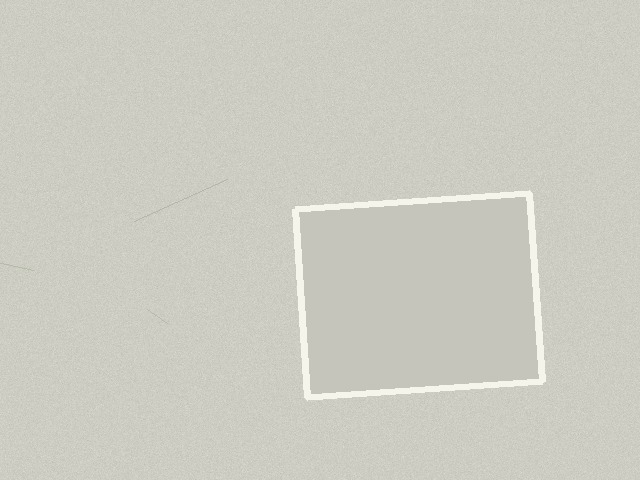parking_area: (295, 193, 542, 397)
